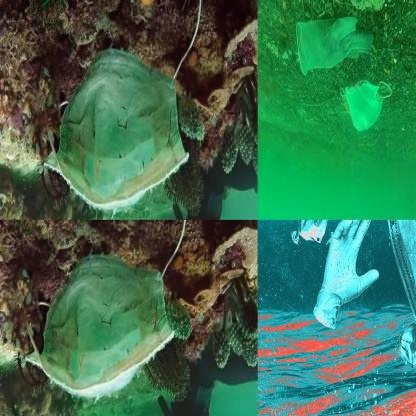Mask: (44, 50, 190, 209), (24, 253, 175, 398), (353, 220, 416, 334), (340, 82, 393, 132), (392, 321, 416, 377), (291, 220, 336, 247)
glove: (312, 220, 387, 343), (295, 17, 374, 77)
